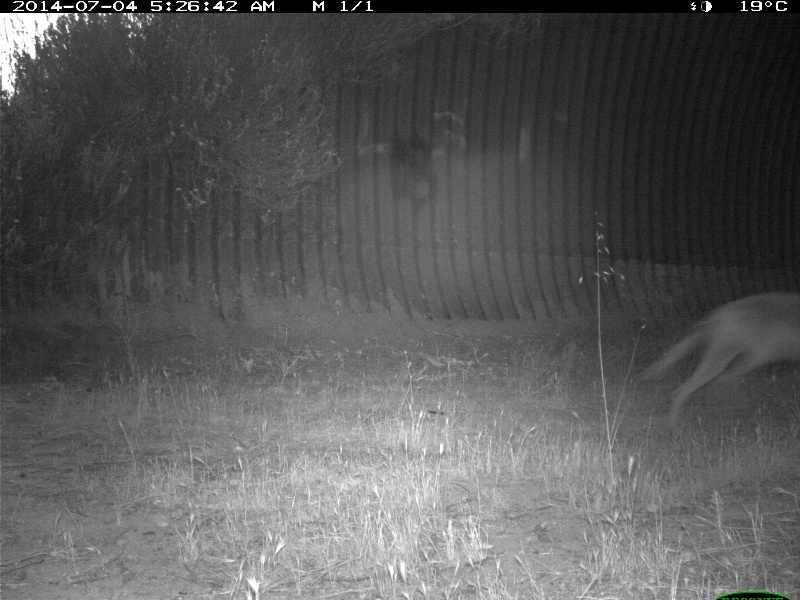coyote: (644, 287, 800, 436)
